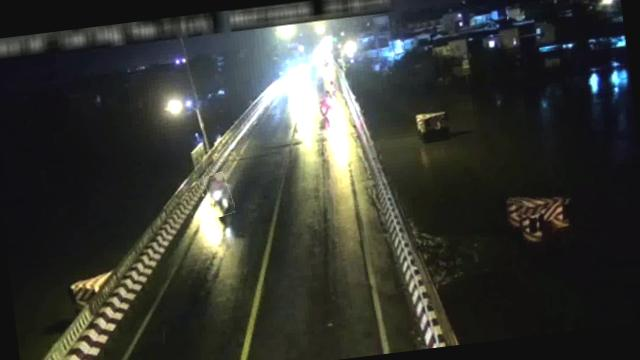Bike: (204, 171, 233, 218), (318, 97, 332, 117)
